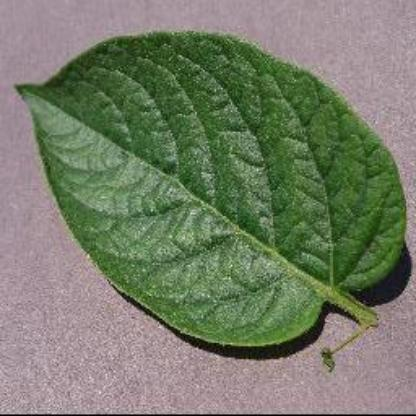Healthy-plant: (15, 20, 411, 350)
